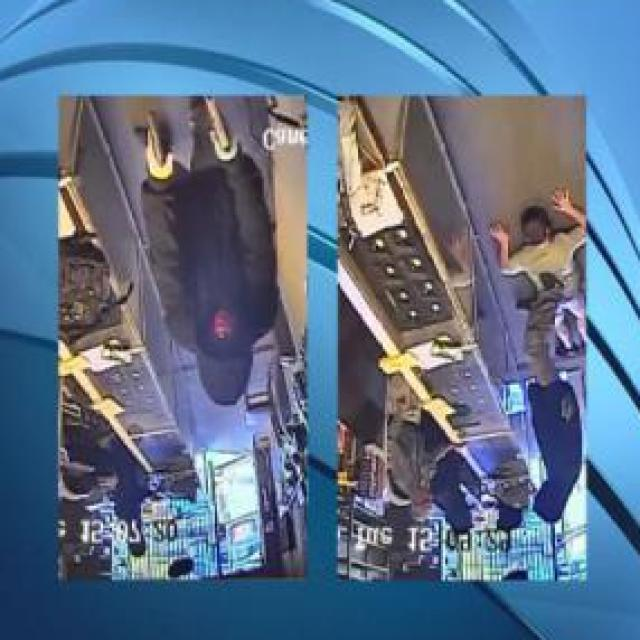pistol: (199, 57, 243, 177), (130, 82, 169, 176)
